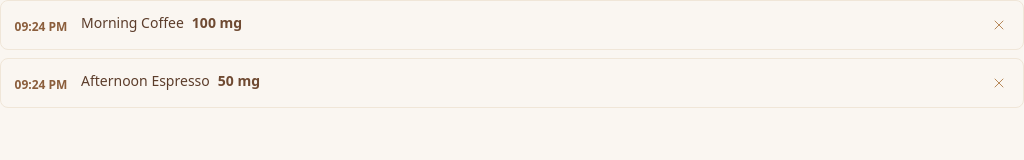
it: DrinkLogTimeline › exits editing mode when the time input loses focus
This screenshot has width=1024, height=160.
Click the button with aria-label "edit time" at (41, 27), box x1=15 y1=19 x2=68 y2=35
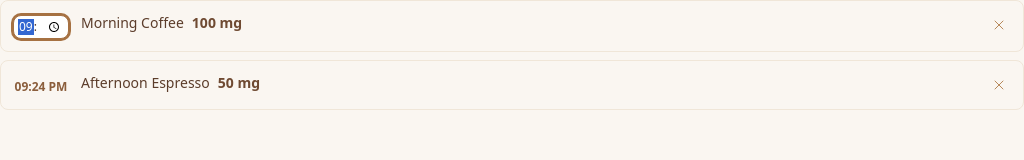
Leave the time field named "edit drink time", box x1=13 y1=15 x2=69 y2=39
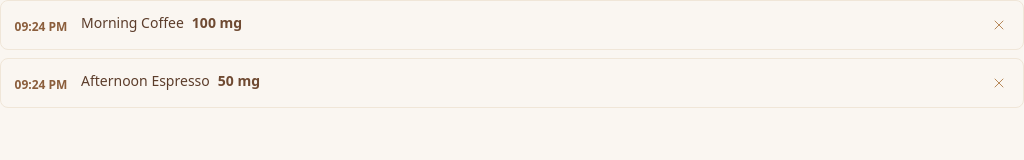
Now the time field labelled "edit drink time" is gone
